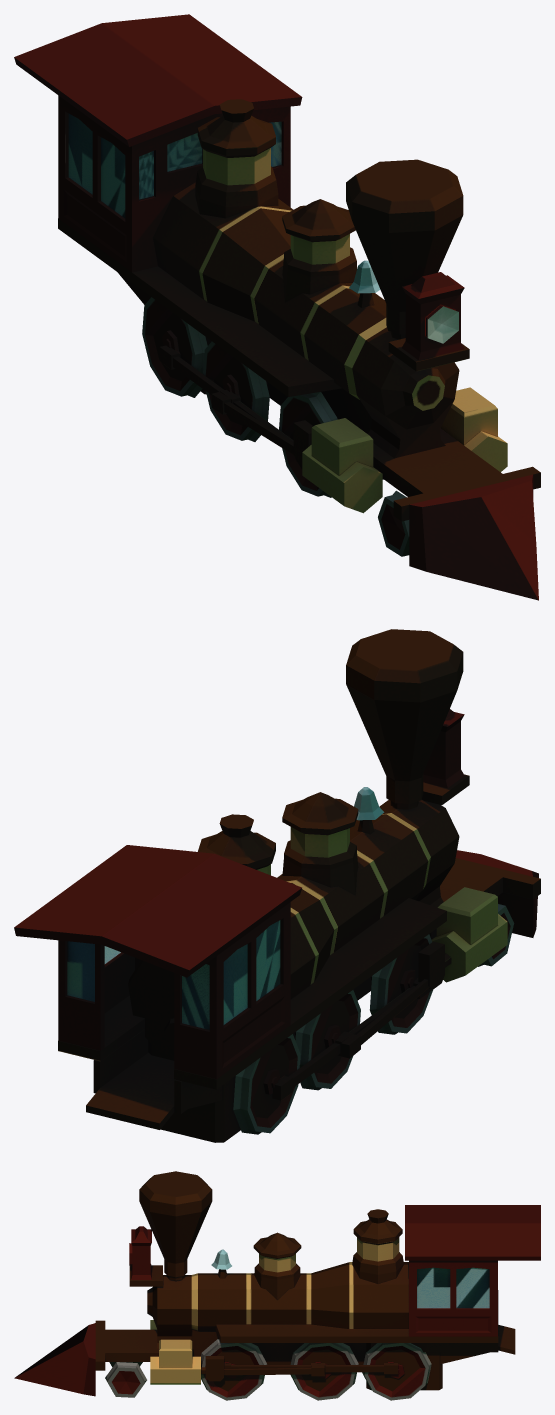
The model's file is TrainHeadLit.eda0792b.glb.
The picture shows the model from 3 angles, top to bottom: view 1: azimuth 30°, elevation 25°; view 2: azimuth 150°, elevation 25°; view 3: azimuth 270°, elevation 25°; orthographic projection. The views are drawn at different scales.
Visible parts, largest first — view 1: locomotive-western-base.001; view 2: locomotive-western-base.001; view 3: locomotive-western-base.001.
Boxes of the visible parts, x1=… form: locomotive-western-base.001: x1=14, y1=14, x2=540, y2=600; locomotive-western-base.001: x1=14, y1=629, x2=540, y2=1142; locomotive-western-base.001: x1=14, y1=1171, x2=540, y2=1400.
Bounding box in the file's own units: 10.87 × 20.02 × 46.96.
1 material, 1 textured.
